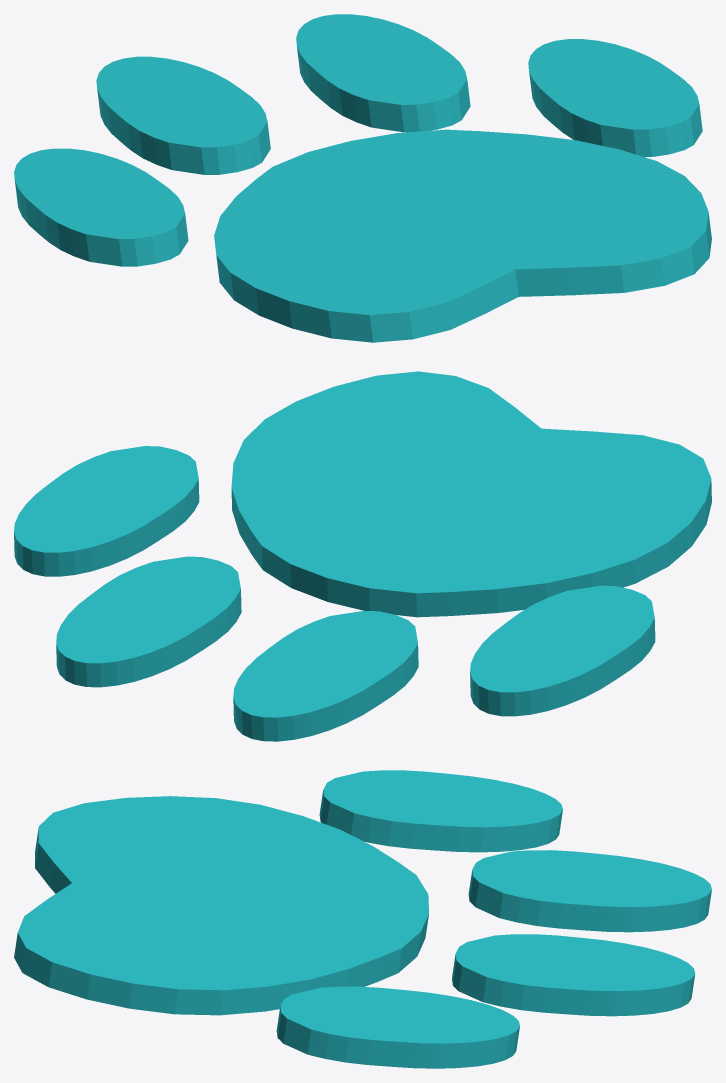
The model's file is menu_paw2.glb.
3 views of the same model, one above another, from view 1: azimuth 30°, elevation 25°; view 2: azimuth 150°, elevation 25°; view 3: azimuth 270°, elevation 25° (orthographic). The views are drawn at different scales.
Parts seen in each view (by area): view 1: Paw Main.006; view 2: Paw Main.006; view 3: Paw Main.006.
Part boxes in pixels (box(x1,y1,x2,y2)): Paw Main.006: box(14, 14, 711, 342); Paw Main.006: box(14, 371, 711, 741); Paw Main.006: box(14, 770, 711, 1068).
Size of the model in its own units: 0.4529 by 0.0427 by 0.4814.
